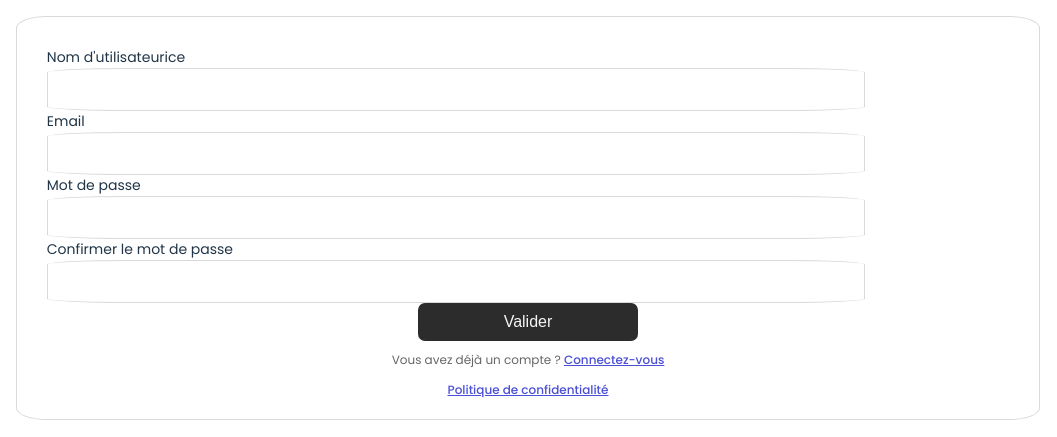
Test: SignUpForm Validation › should display error message when no email is filled
In the field labelled "Nom d'utilisateurice": [456, 90] box top-left (47, 68), bottom-right (865, 111), type "testuser"
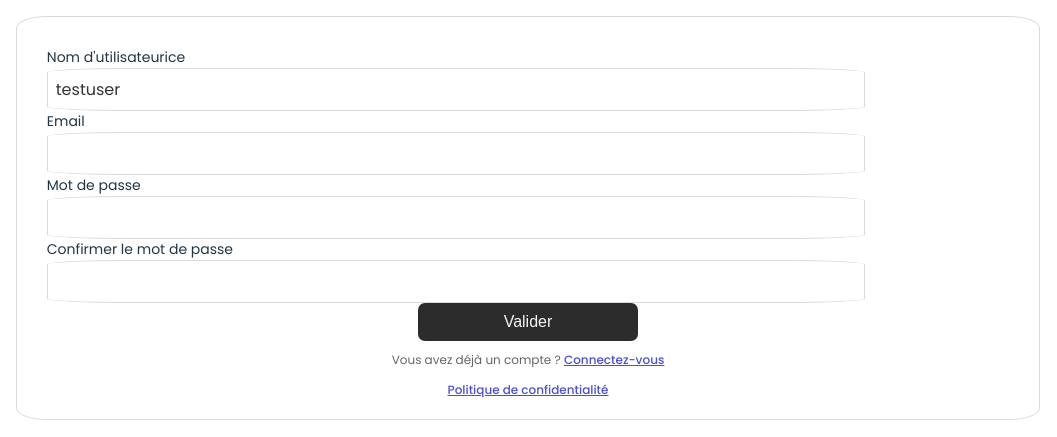
In the password field labelled "Mot de passe": [456, 218] box top-left (47, 196), bottom-right (865, 239), type "password123"
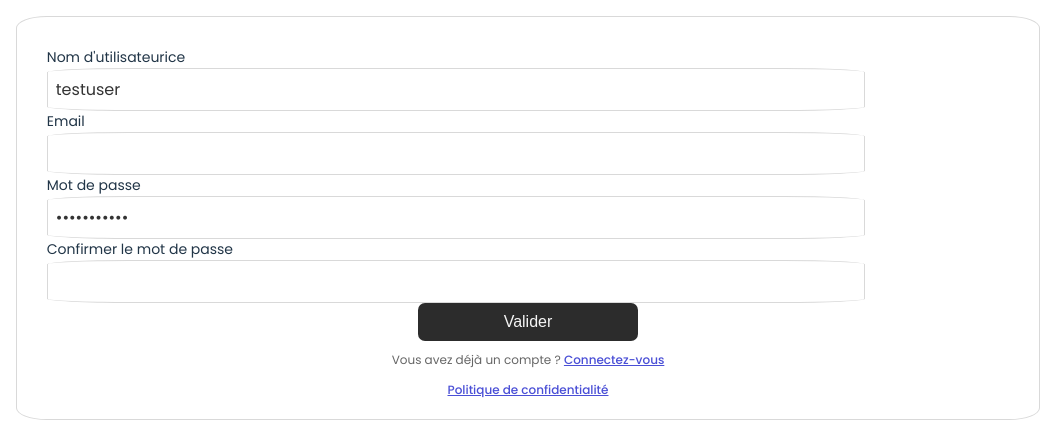
In the password field labelled "Confirmer le mot de passe": [456, 282] box top-left (47, 260), bottom-right (865, 303), type "password123"
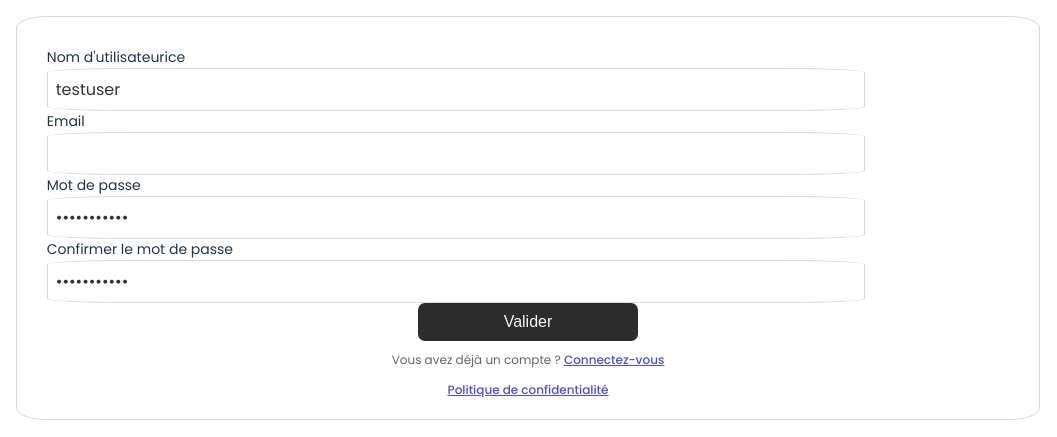
Click the button "Valider": [528, 322] box top-left (418, 303), bottom-right (638, 341)
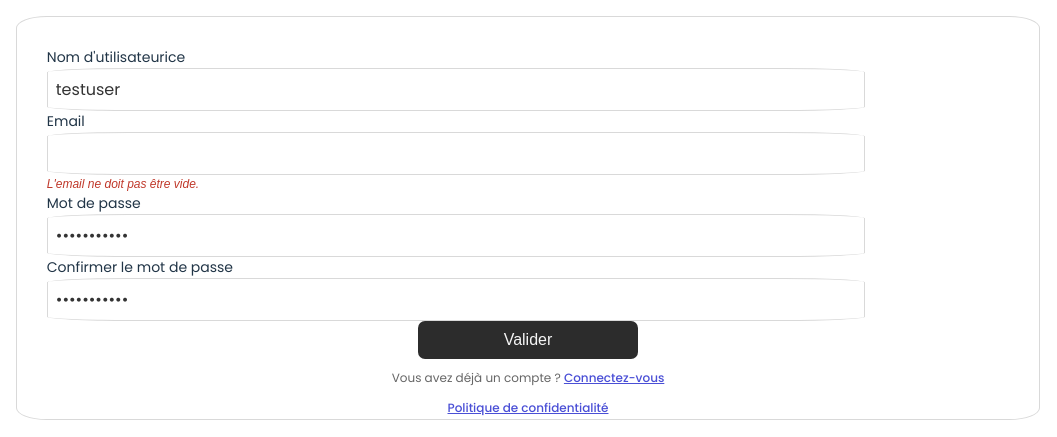
Now the text "L'email ne doit pas être vide." is shown, box top-left (47, 177), bottom-right (199, 191)
